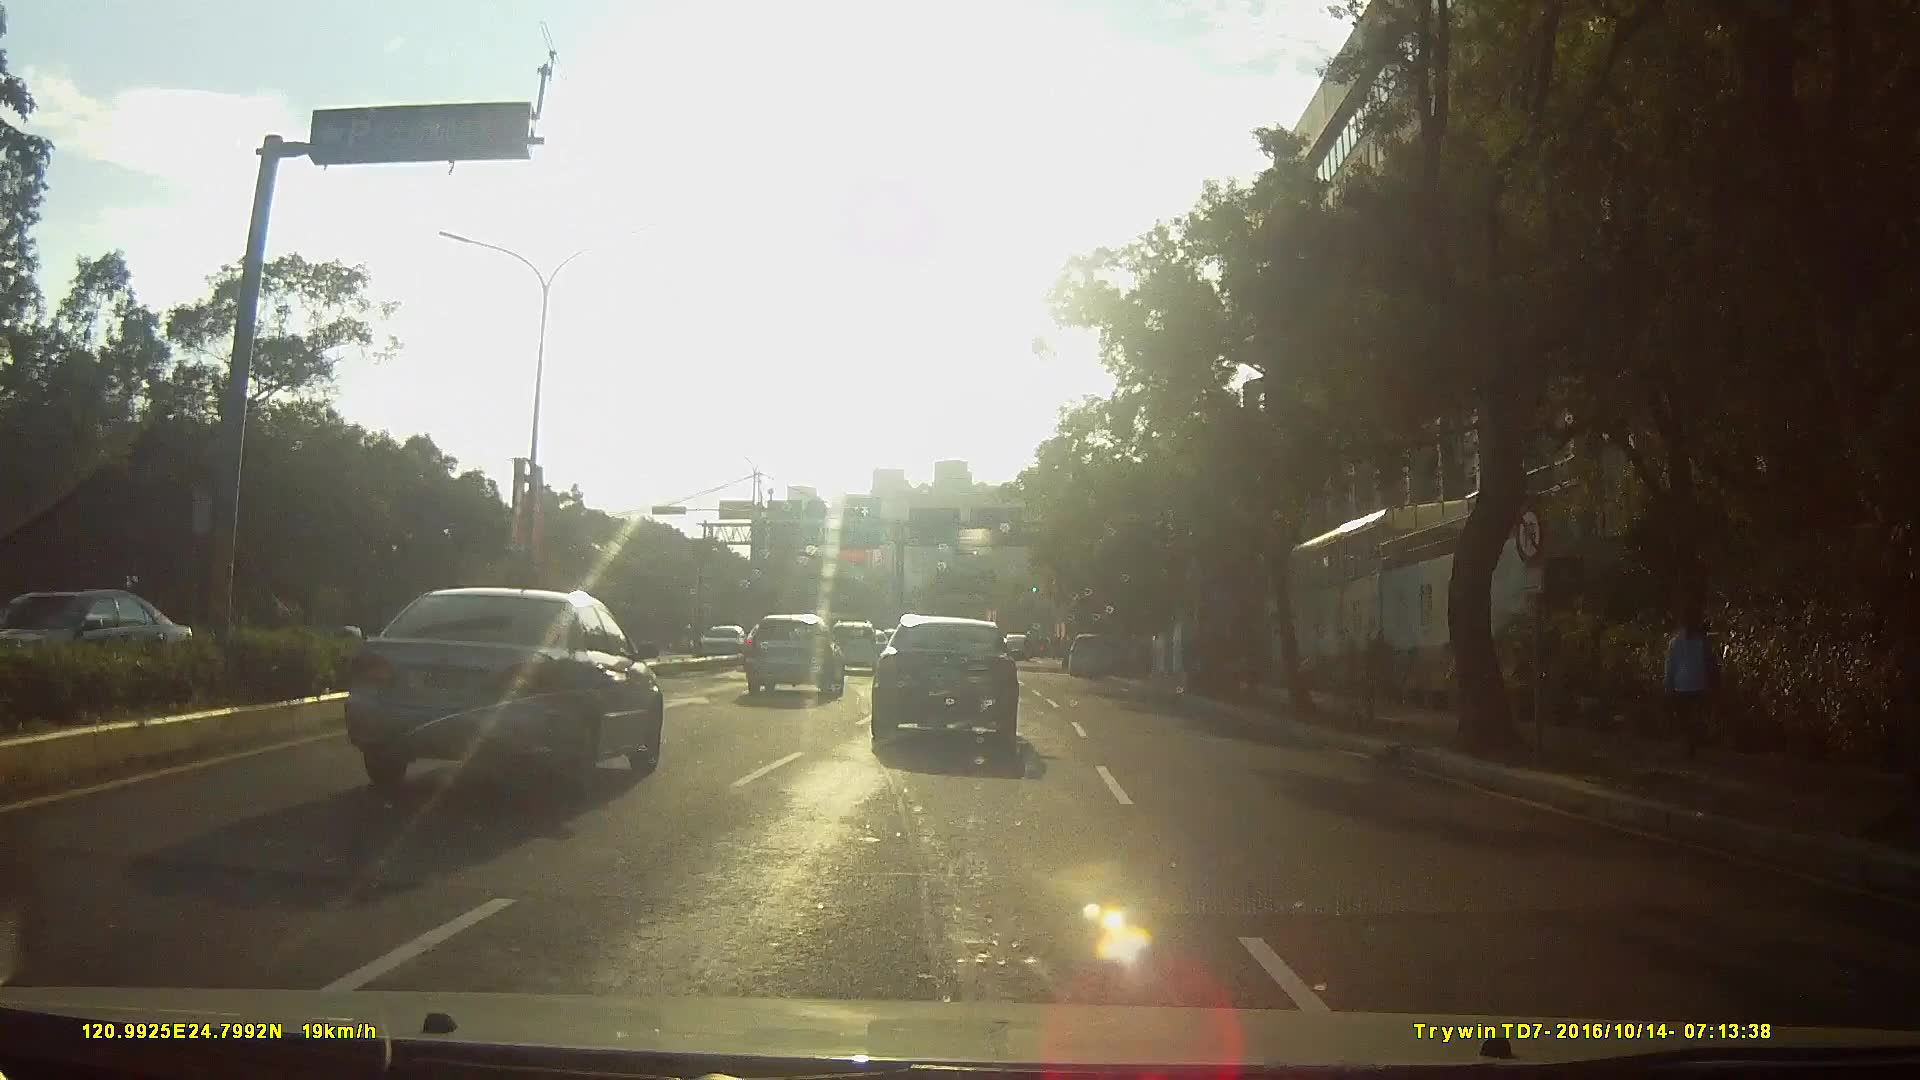pedestrian: (1664, 598, 1724, 769)
vehicle: (322, 583, 674, 803), (867, 612, 1037, 757), (1, 582, 203, 697), (738, 610, 840, 700), (820, 615, 877, 673), (696, 619, 753, 662), (1064, 629, 1116, 677)
